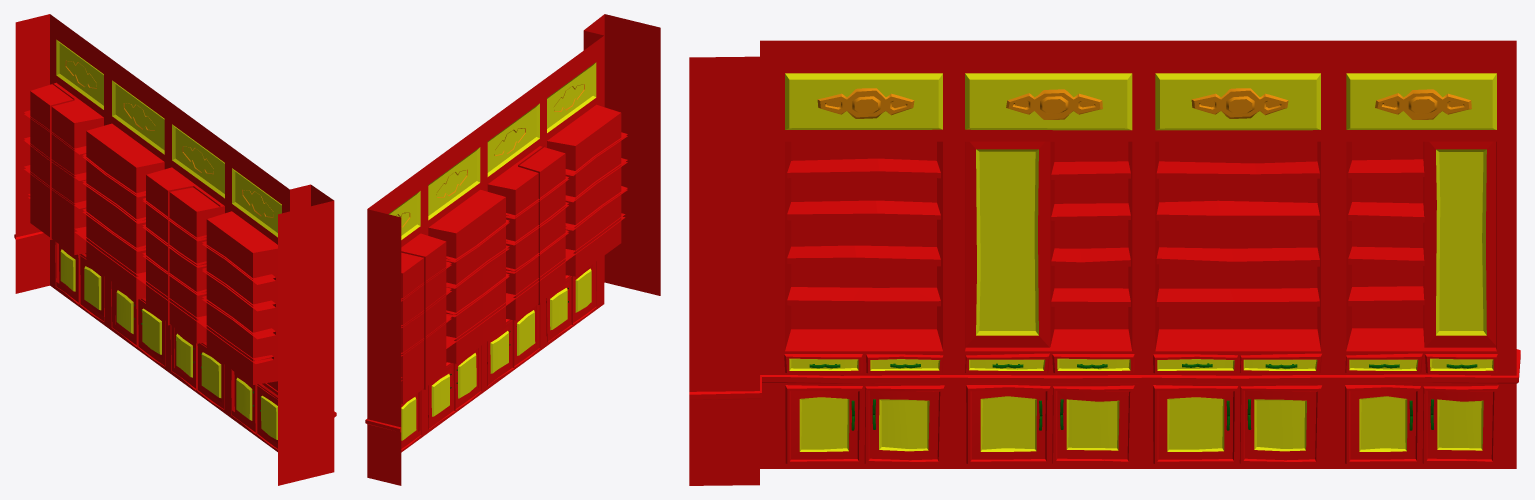
The model's file is LR_Bookshelf_1.fbx.
3 views of the same model, side by side, from view 1: azimuth 30°, elevation 25°; view 2: azimuth 150°, elevation 25°; view 3: azimuth 270°, elevation 25° (orthographic). The views are drawn at different scales.
Visible parts, largest first — view 1: LR_Bookshelf_1; view 2: LR_Bookshelf_1; view 3: LR_Bookshelf_1.
Boxes of the visible parts, bbox=[...] form: LR_Bookshelf_1: bbox=[14, 14, 336, 485]; LR_Bookshelf_1: bbox=[365, 14, 660, 485]; LR_Bookshelf_1: bbox=[689, 40, 1520, 485].
Bounding box in the file's own units: 99.92 × 442 × 777.
